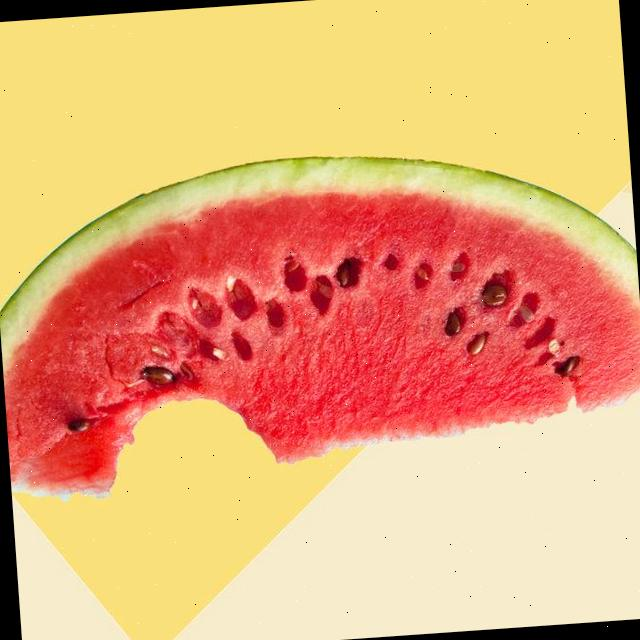watermelon: (0, 100, 640, 482)
